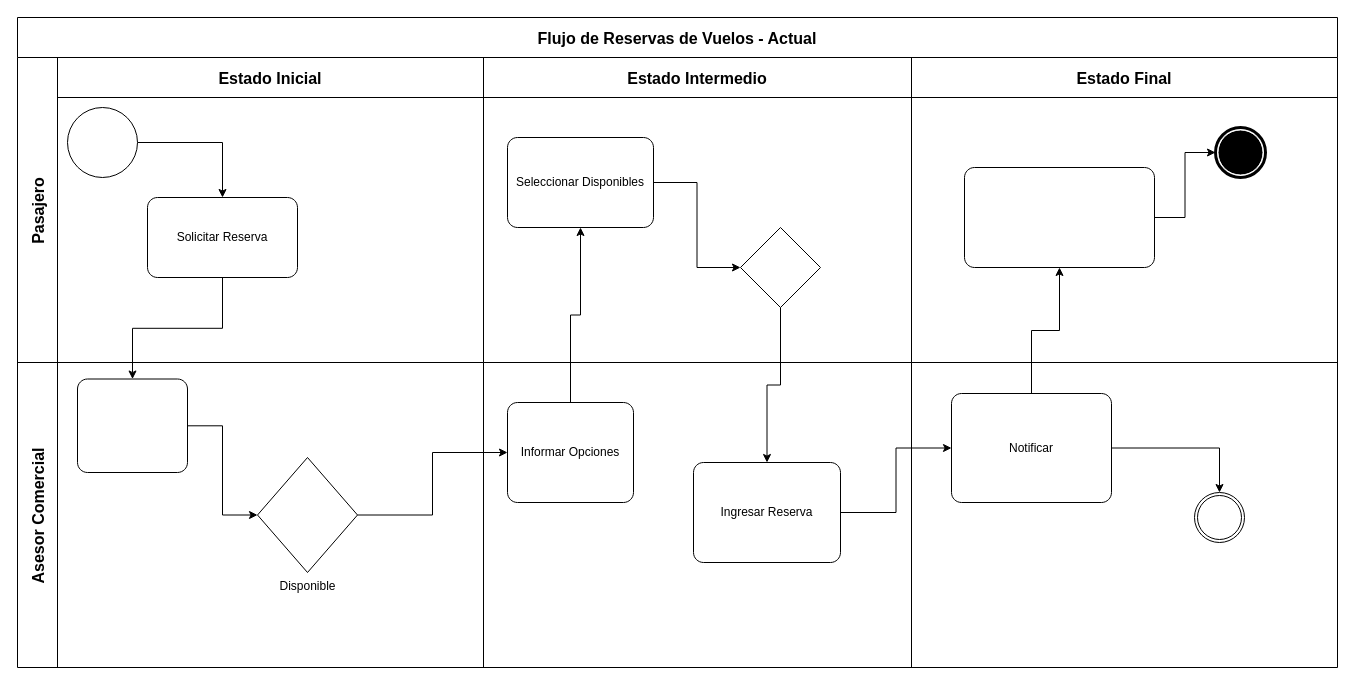
This 1355x685 diagram has some shape labels left out. Each missing label, with the centre of its shape:
Aceptar: point 1059,217
Reservar: point 780,267
Revisa Reservas: point 132,425
